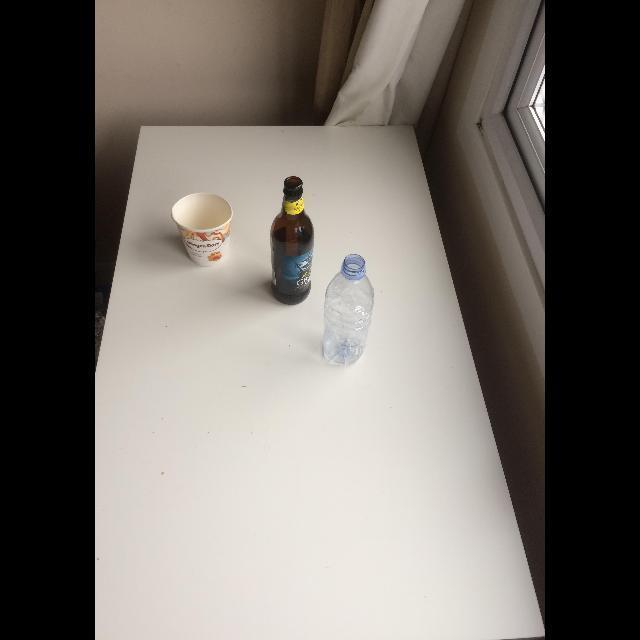Glass: (270, 176, 314, 304)
Paper: (172, 193, 232, 267)
Plastic: (322, 255, 373, 365)
